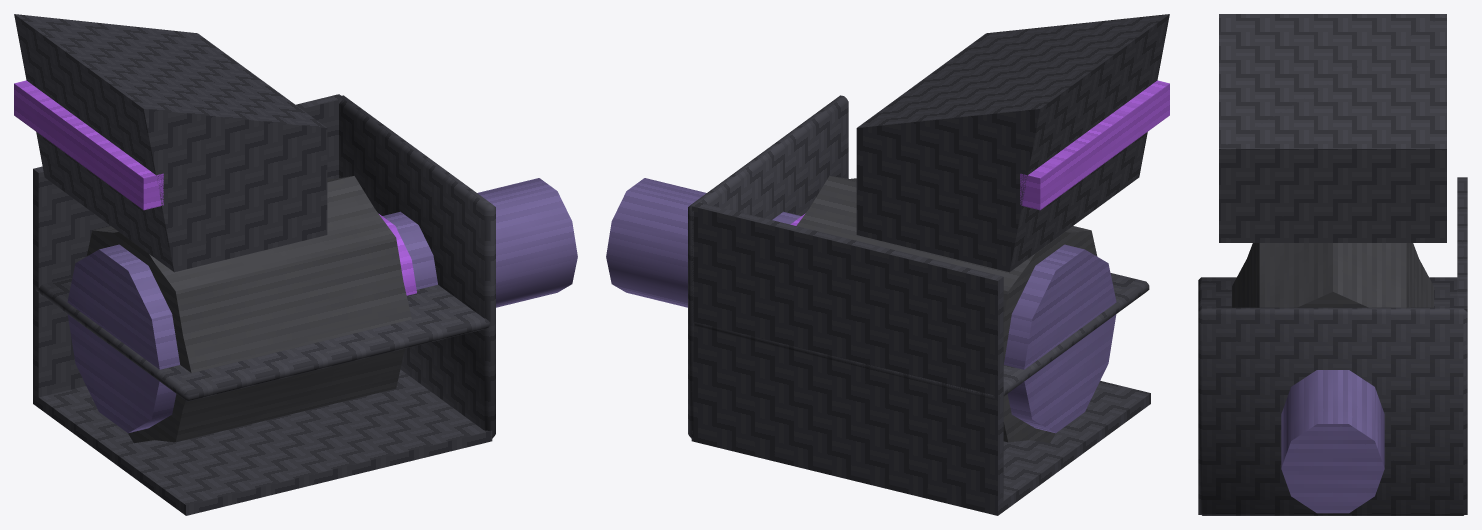
Rendered from filtro_ar_n5.glb.
3 renders of one model, left to right at view 1: azimuth 30°, elevation 25°; view 2: azimuth 150°, elevation 25°; view 3: azimuth 270°, elevation 25°, orthographic. The views are drawn at different scales.
Visible parts, largest first — view 1: filtro_ar_n5; view 2: filtro_ar_n5; view 3: filtro_ar_n5.
Boxes of the visible parts, bbox=[...] form: filtro_ar_n5: bbox=[14, 14, 577, 515]; filtro_ar_n5: bbox=[606, 14, 1169, 515]; filtro_ar_n5: bbox=[1198, 14, 1467, 515].
Size of the model in its own units: 0.46 by 0.38 by 0.26.
3 materials, 3 textured.
